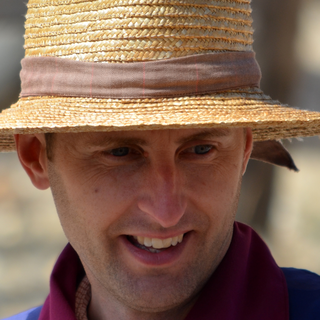eye: (94, 142, 143, 163), (178, 139, 222, 159)
